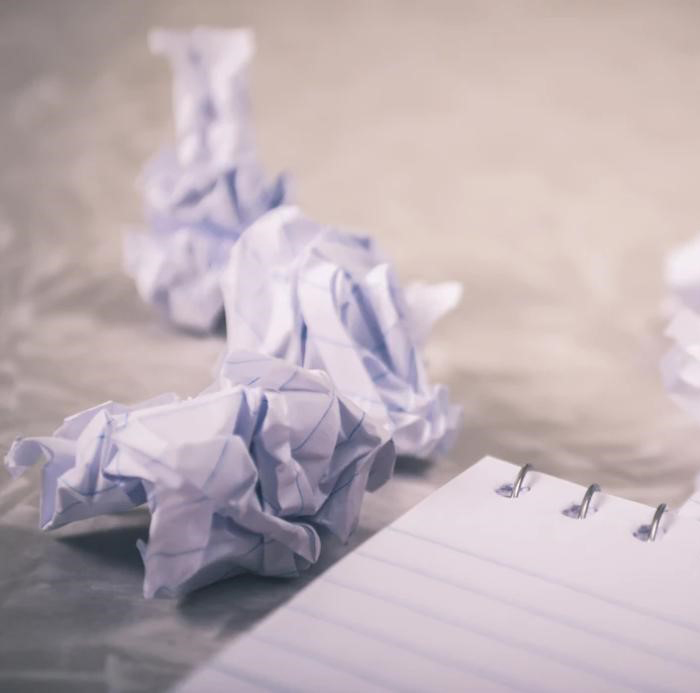paper: (6, 350, 400, 610), (221, 197, 471, 465), (120, 15, 301, 332)
